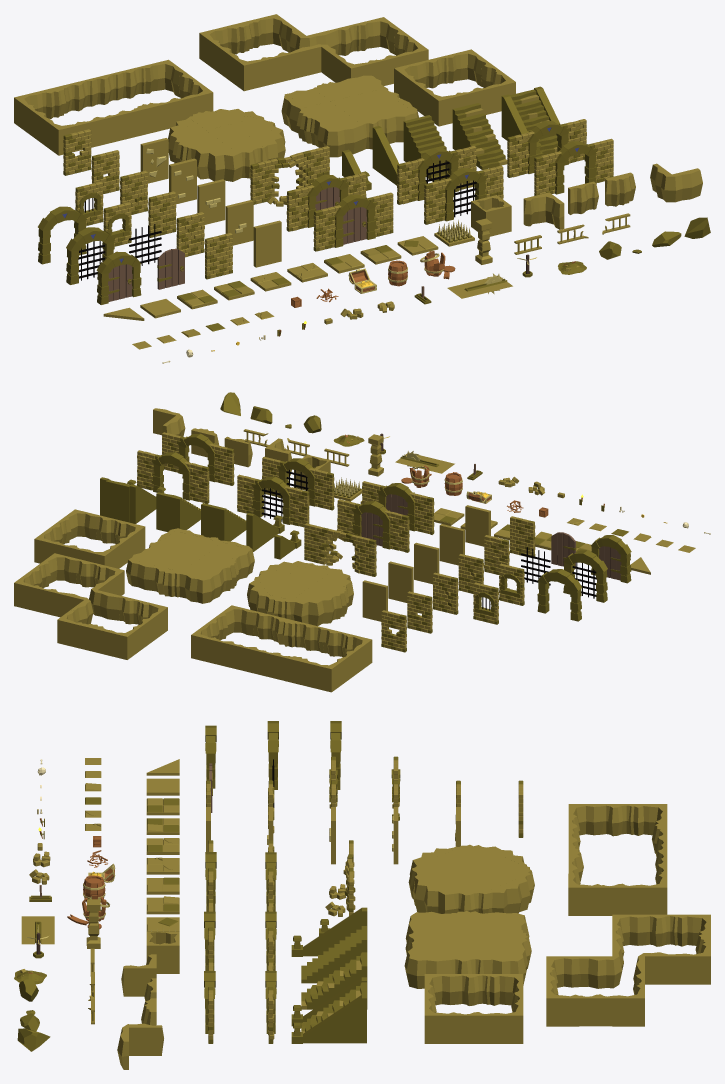
The model's file is low poly dungeon assets.fbx.
3 views of the same model, one above another, from view 1: azimuth 30°, elevation 25°; view 2: azimuth 150°, elevation 25°; view 3: azimuth 270°, elevation 25° (orthographic). The views are drawn at different scales.
Visible parts, largest first — view 1: brick wall with door, brick wall without door, ruined wall, stairs.003, brick wall with bars, brick wall without door.001, brick wall with bars.001, brick wall with door.001, stairs, floor.107, floor.384, floor.332 (+61 smaller); view 2: brick wall without door.001, ruined wall, brick wall with bars.001, brick wall with door.001, stairs.003, brick wall without door, brick wall with bars, brick wall with door, stairs, door arc.038, floor.336, stairs.002 (+59 smaller); view 3: stairs.003, stairs, floor.107, stairs handhail big, floor.045, floor.008, floor.377, floor.046, floor.378, floor.012, floor.072, floor.338 (+42 smaller).
Boxes of the visible parts, x1,y1,x2,y2 form: brick wall with door: [313, 192, 393, 251]; brick wall without door: [534, 138, 613, 195]; ruined wall: [250, 146, 329, 206]; stairs.003: [501, 86, 559, 156]; brick wall with bars: [424, 165, 503, 224]; brick wall without door.001: [507, 119, 586, 177]; brick wall with bars.001: [397, 146, 476, 204]; brick wall with door.001: [286, 172, 366, 231]; stairs: [403, 115, 447, 181]; floor.107: [650, 163, 702, 202]; floor.384: [191, 147, 241, 181]; floor.332: [314, 118, 365, 157]; brick wall without door.001: [137, 450, 209, 503]; ruined wall: [304, 523, 376, 576]; brick wall with bars.001: [237, 474, 309, 527]; brick wall with door.001: [337, 499, 409, 552]; stairs.003: [100, 477, 165, 523]; brick wall without door: [162, 432, 234, 485]; brick wall with bars: [262, 456, 334, 510]; brick wall with door: [362, 481, 434, 534]; stairs: [201, 503, 246, 541]; door arc.038: [537, 569, 582, 621]; floor.336: [179, 568, 224, 603]; stairs.002: [156, 492, 190, 531]; stairs.003: [291, 977, 366, 1043]; stairs: [301, 926, 366, 983]; floor.107: [117, 1023, 163, 1069]; stairs handhail big: [291, 907, 367, 956]; floor.045: [579, 942, 623, 988]; floor.008: [146, 931, 179, 973]; floor.377: [486, 877, 530, 913]; floor.046: [633, 952, 677, 984]; floor.378: [414, 877, 455, 913]; floor.012: [490, 1002, 523, 1043]; floor.072: [546, 984, 579, 1026]; floor.338: [404, 943, 452, 988].
Bounding box in the file's own units: 4739 × 469 × 4460.
